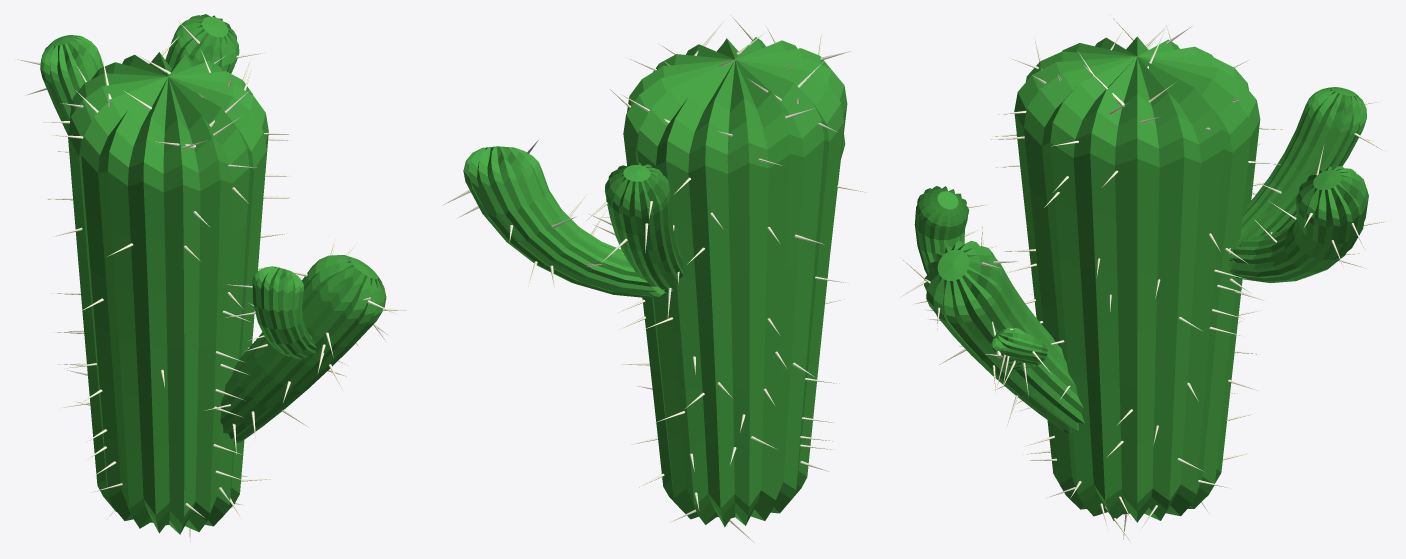
File: StubyCactus.fbx
3 renders of one model, left to right at view 1: azimuth 30°, elevation 25°; view 2: azimuth 150°, elevation 25°; view 3: azimuth 270°, elevation 25°, orthographic. The views are drawn at different scales.
Parts seen in each view (by area): view 1: Body; view 2: Body; view 3: Body.
Boxes of the visible parts, bbox=[...] form: Body: bbox=[40, 14, 386, 534]; Body: bbox=[463, 37, 847, 527]; Body: bbox=[914, 36, 1368, 522].
Size of the model in its own units: 212 by 333 by 301.
